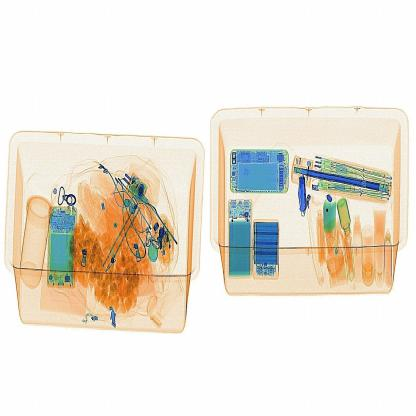knife: (292, 168, 317, 224)
